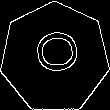O_W: (29, 36, 80, 80)
